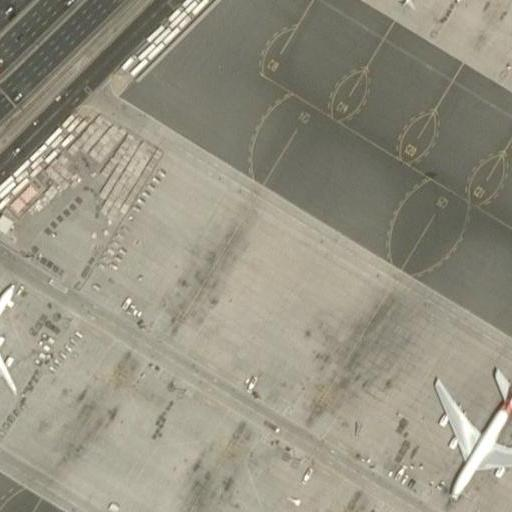Aircraft: (426, 356, 512, 501), (0, 280, 21, 413)
